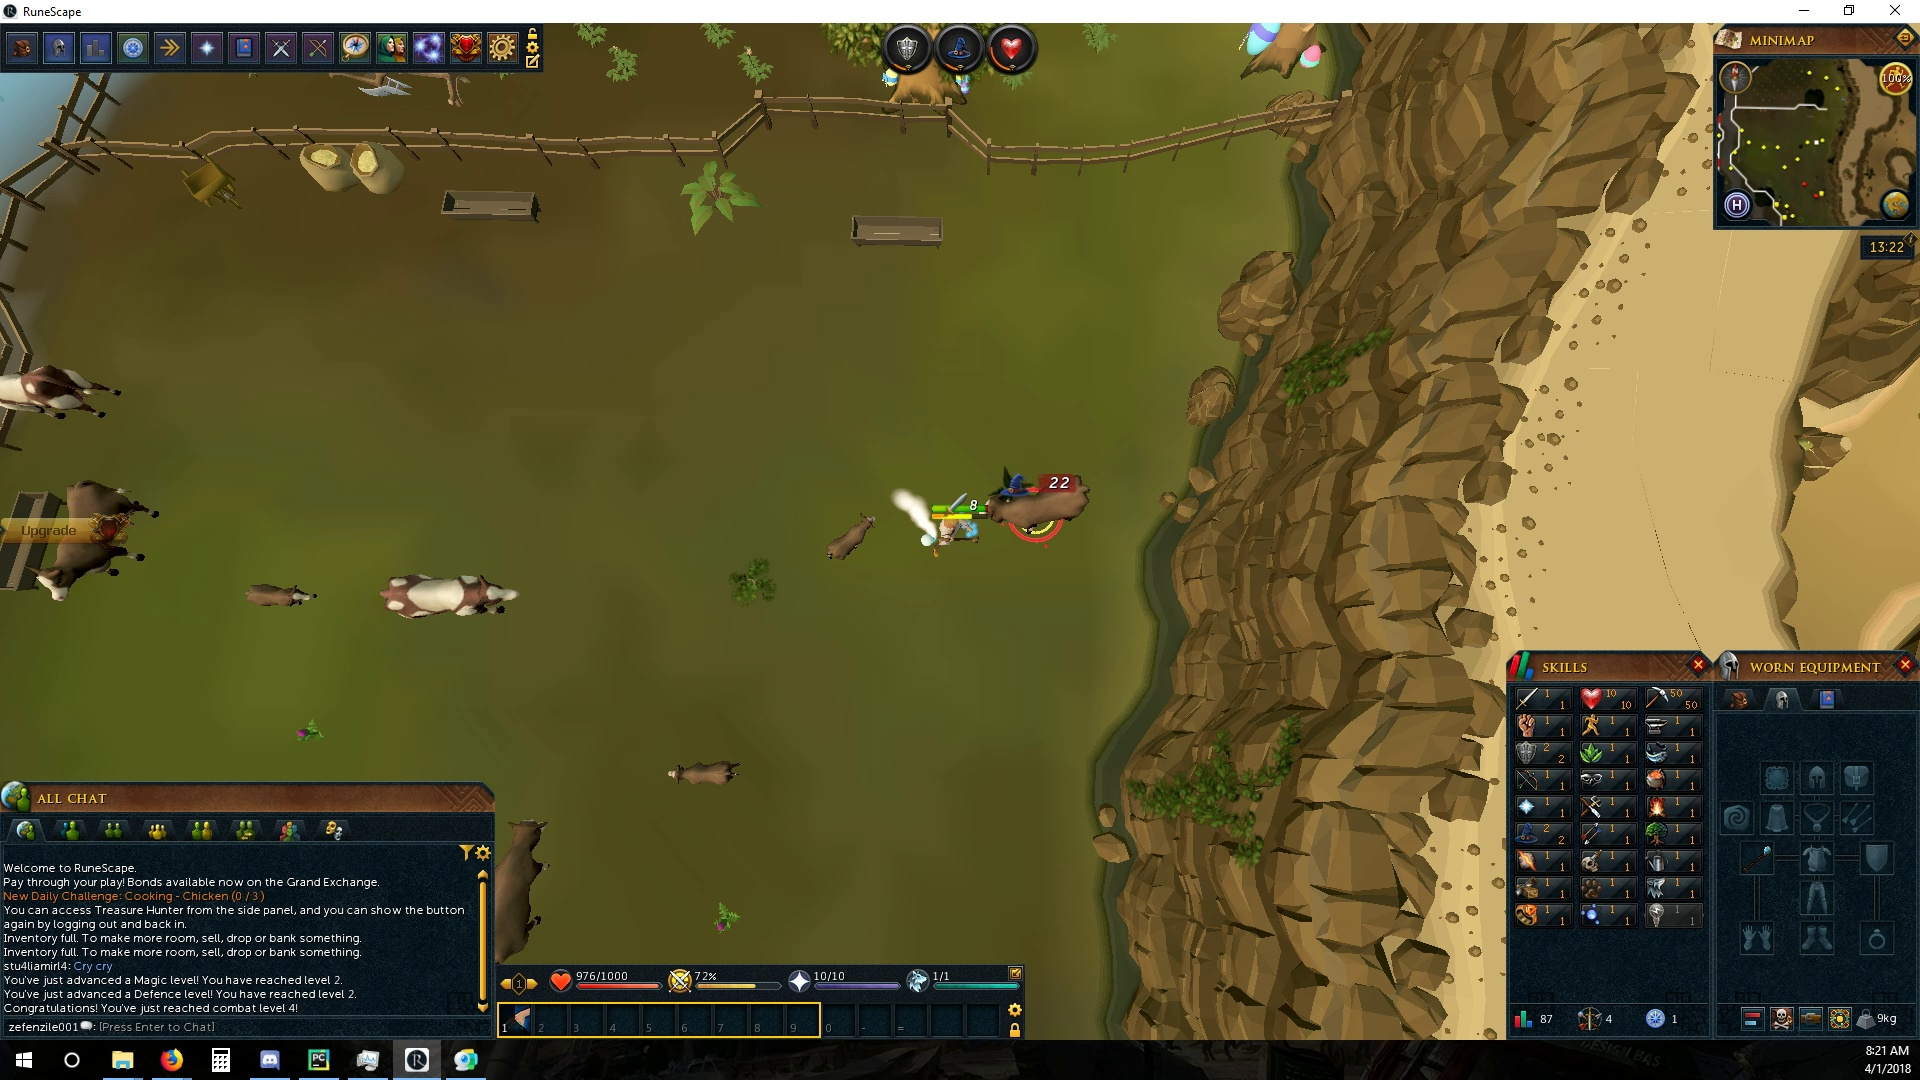calf: (822, 512, 876, 564), (661, 760, 740, 791), (244, 580, 319, 611)
cow: (29, 479, 158, 607), (496, 815, 555, 960), (969, 473, 1095, 535), (371, 570, 521, 621), (1, 360, 128, 421)
